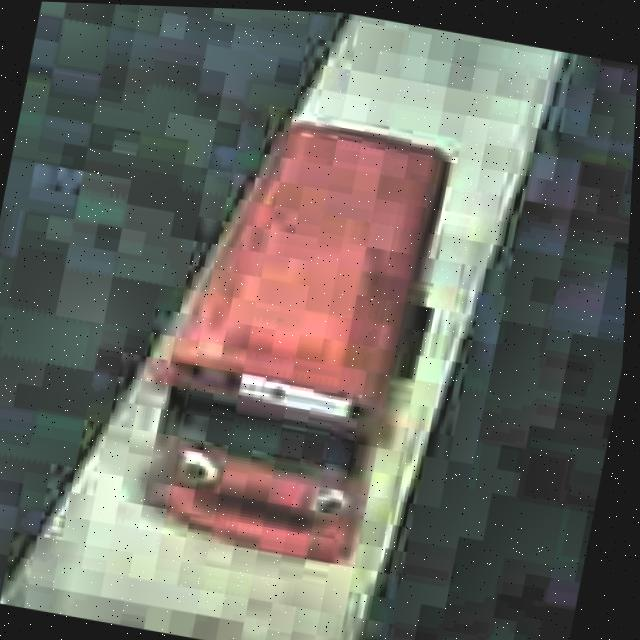bus: (113, 96, 469, 583)
